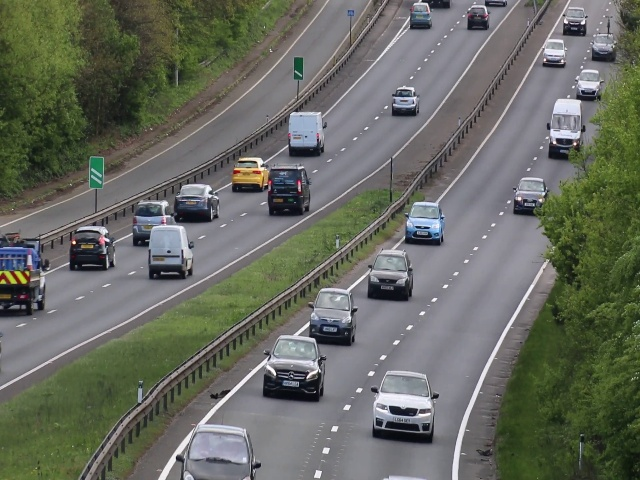car: (371, 368, 439, 442), (178, 424, 254, 480), (262, 334, 324, 400), (1, 235, 50, 314), (309, 287, 356, 345), (148, 226, 195, 279), (265, 165, 311, 217), (367, 249, 413, 299), (66, 225, 117, 270), (131, 199, 178, 244), (549, 97, 581, 159), (286, 110, 326, 154), (176, 182, 220, 222), (404, 199, 443, 244), (231, 157, 271, 189), (514, 175, 543, 214), (389, 83, 423, 115), (563, 4, 587, 36), (576, 68, 600, 100), (466, 3, 491, 30), (409, 1, 432, 30), (544, 39, 566, 67), (593, 33, 614, 59)
